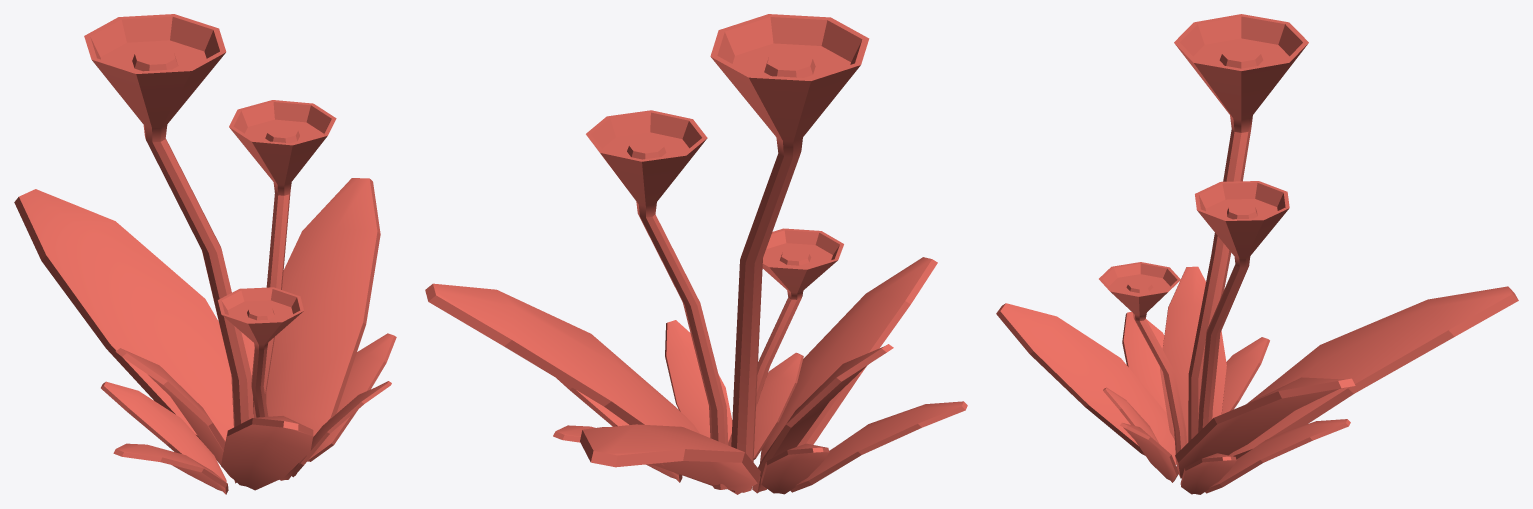
The model's file is a_z3_flower_l.fbx.
3 views of the same model, side by side, from view 1: azimuth 30°, elevation 25°; view 2: azimuth 150°, elevation 25°; view 3: azimuth 270°, elevation 25° (orthographic). The views are drawn at different scales.
Visible parts, largest first — view 1: a_z3_flower_l; view 2: a_z3_flower_l; view 3: a_z3_flower_l.
Boxes of the visible parts, x1,y1,x2,y2 form: a_z3_flower_l: (14, 14, 396, 494); a_z3_flower_l: (425, 14, 967, 494); a_z3_flower_l: (996, 14, 1518, 494).
Size of the model in its own units: 133 by 149 by 177.
